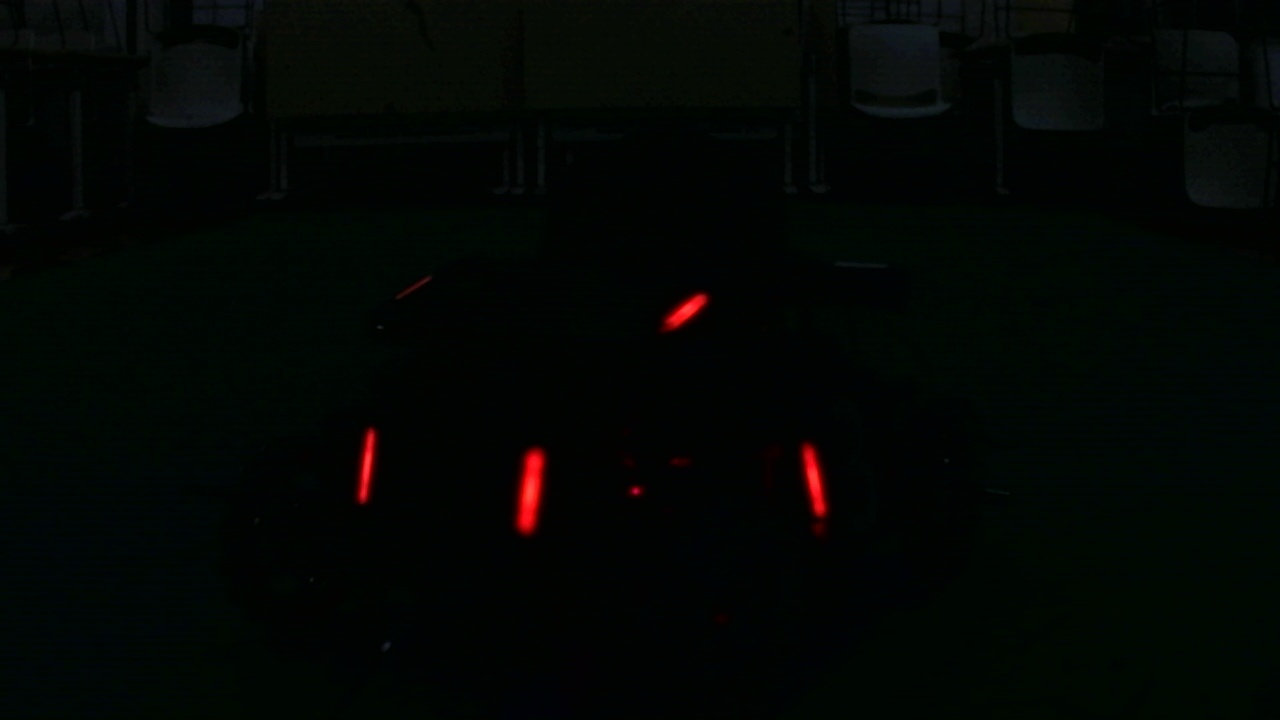lamp: (512, 440, 542, 535), (800, 437, 830, 517), (350, 421, 374, 503)
notpair1: (515, 440, 834, 531)
pair1: (352, 424, 546, 533)
